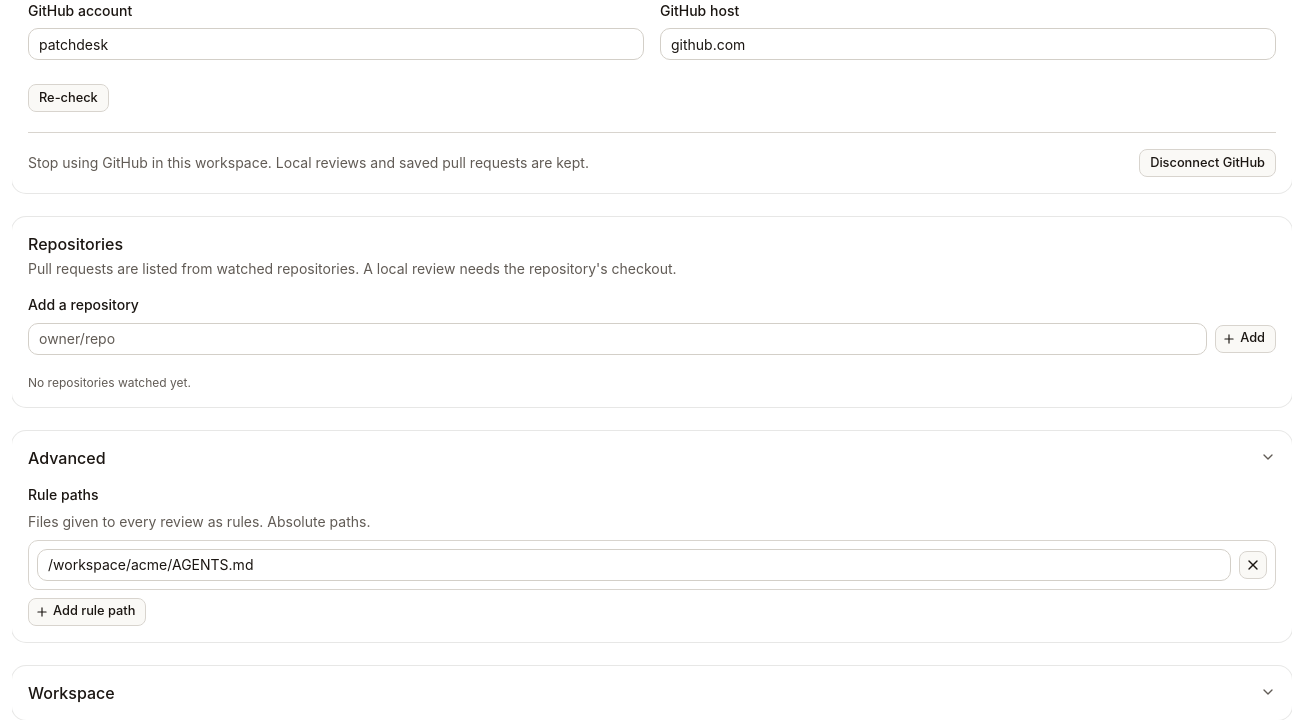
Test: workspace profile settings › keeps the Workspace card closed until it is opened
(page scrolled)
Expected: the field labelled "Name" is not shown
Click the button "Workspace": (71, 692) [12,682,1292,704]
(page scrolled)
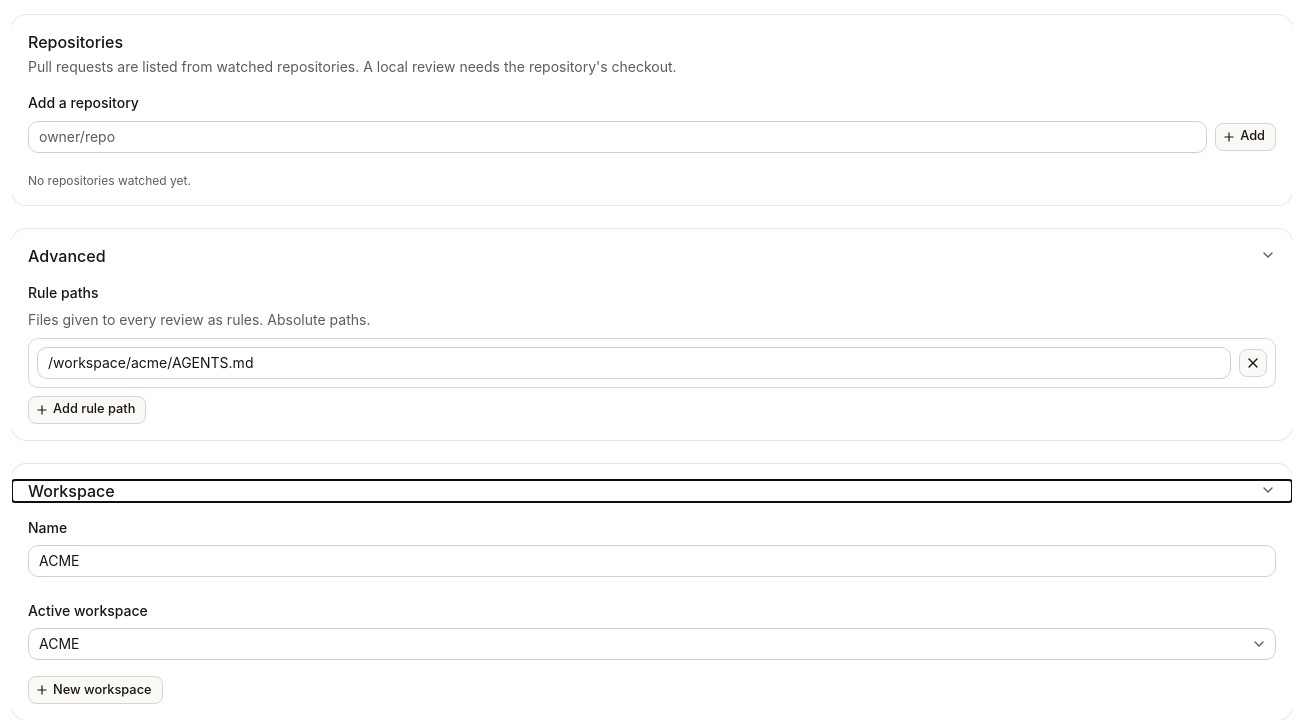
Now the field labelled "Name" holds "ACME", box [28,545,1276,577]
